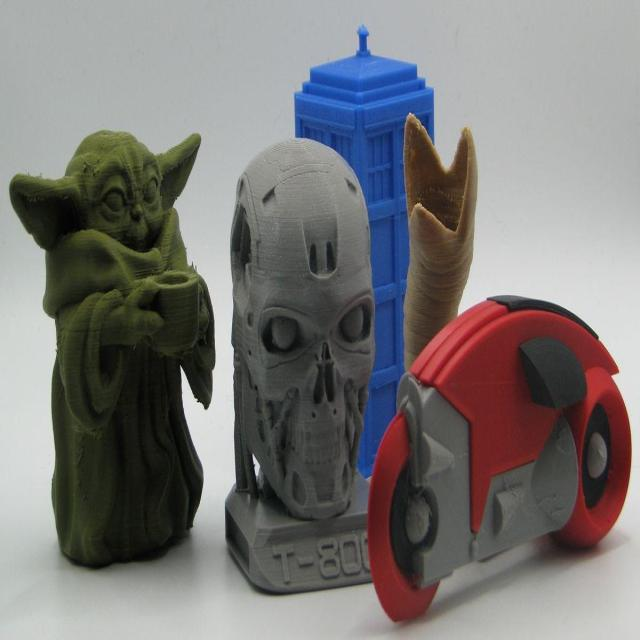Without deffect: (10, 41, 630, 630)
